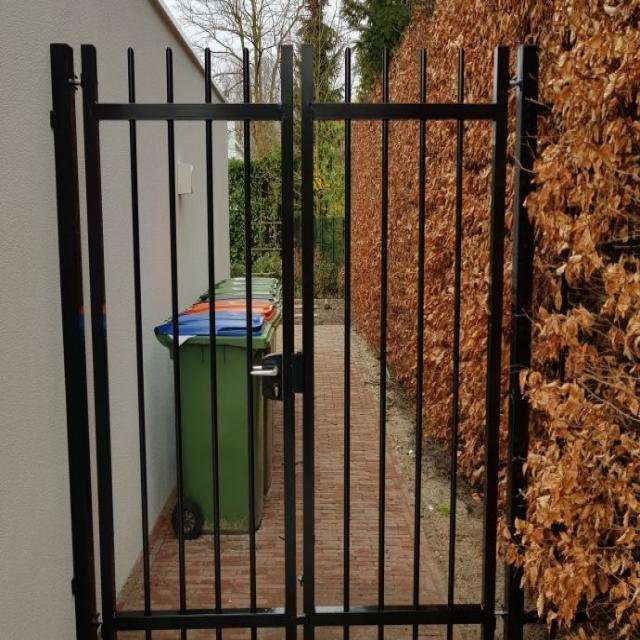fence line: (83, 53, 494, 640)
